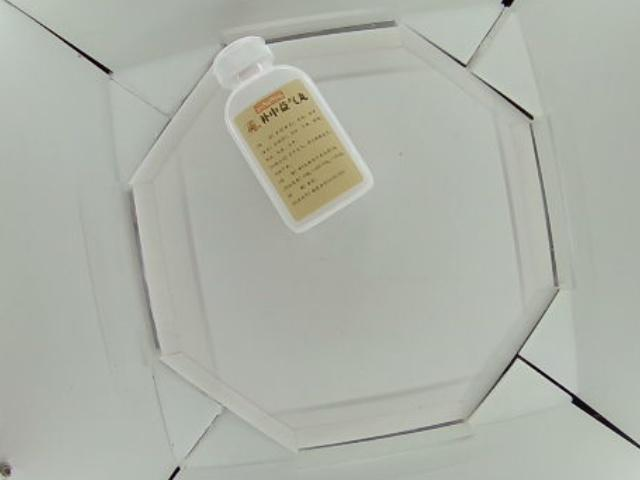Bottle: (214, 34, 372, 231)
